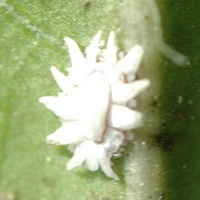insect: (39, 31, 149, 179)
